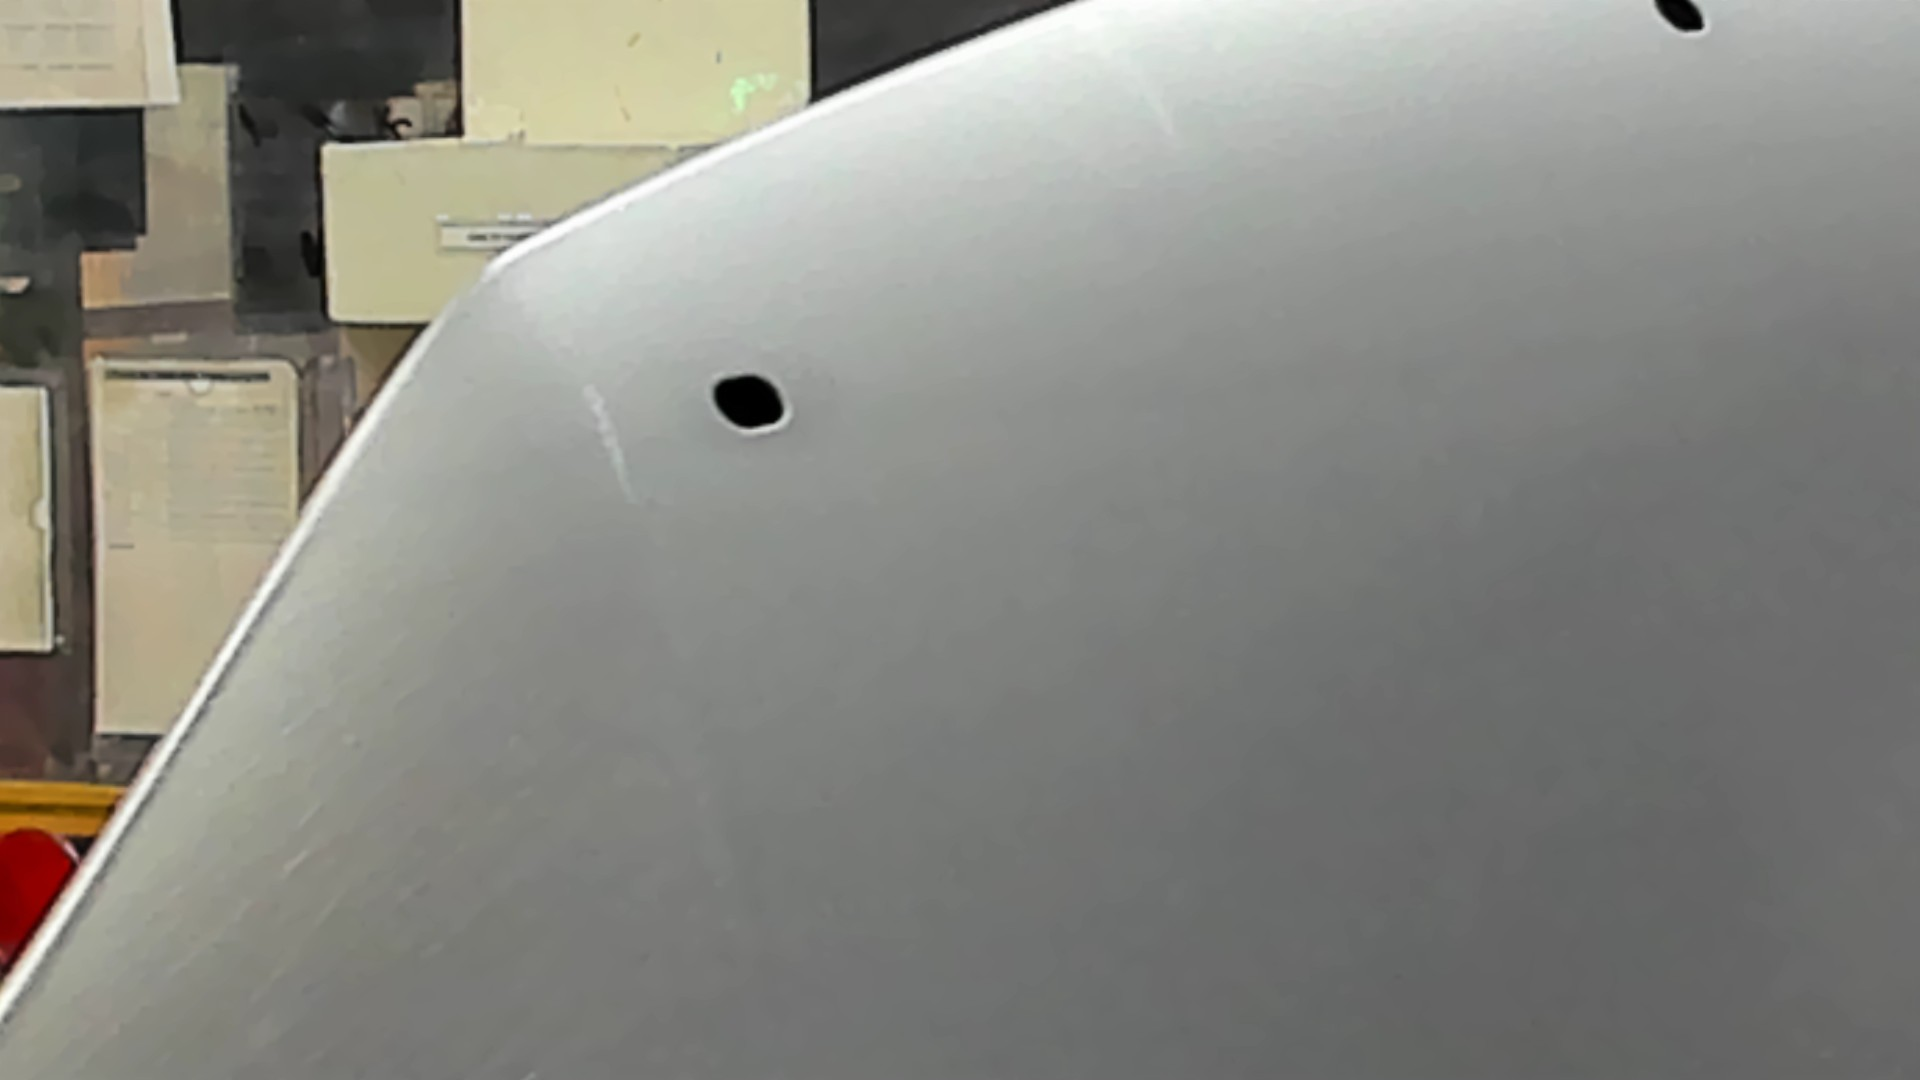chico: (698, 368, 807, 442), (1642, 1, 1720, 46)
